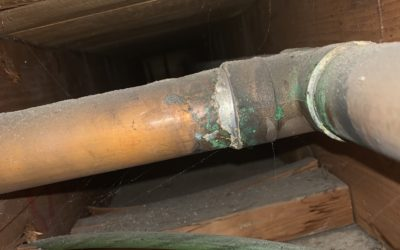Moderate: (164, 86, 286, 152), (291, 70, 336, 138)
